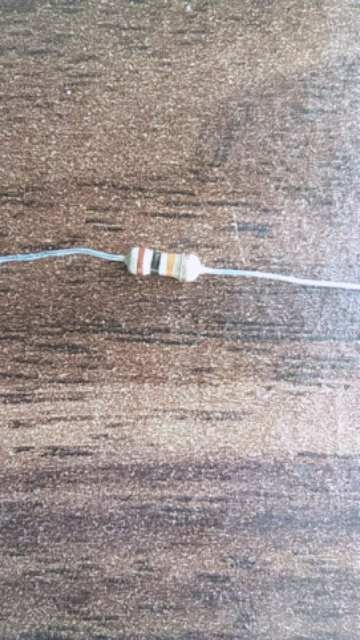resistor: (124, 247, 201, 282)
